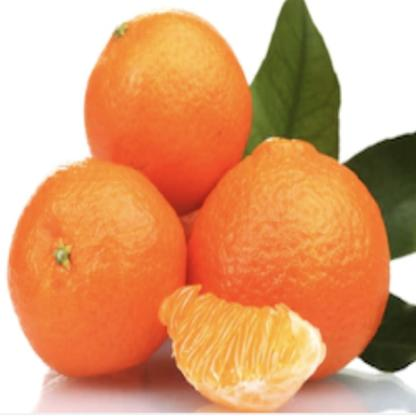fresh: (4, 10, 389, 416)
